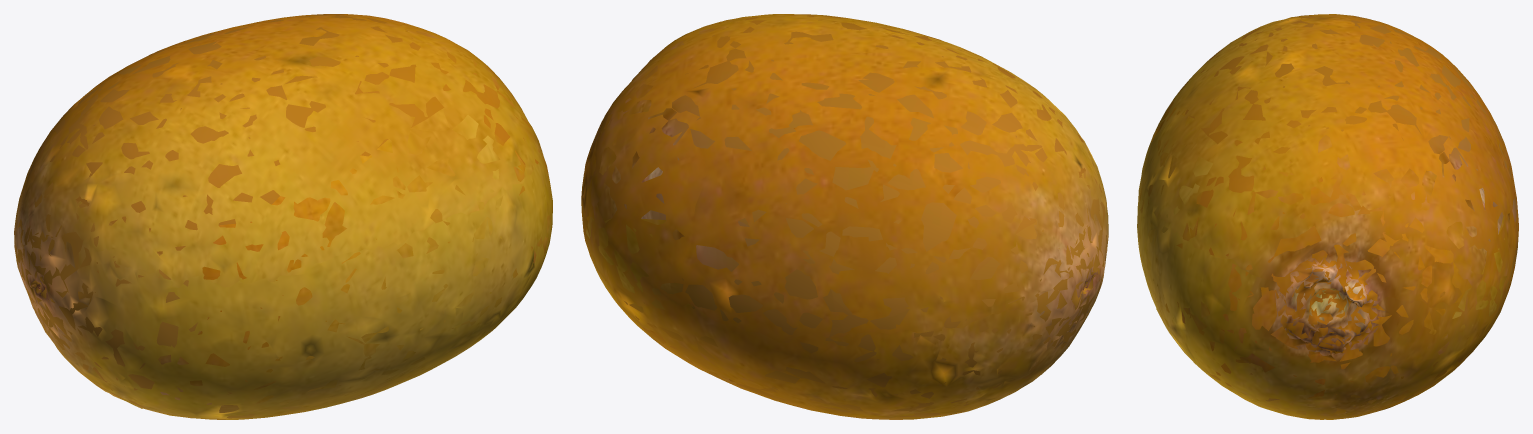
Rendered from kiwi.glb.
3 views of the same model, side by side, from view 1: azimuth 30°, elevation 25°; view 2: azimuth 150°, elevation 25°; view 3: azimuth 270°, elevation 25° (orthographic). The views are drawn at different scales.
Visible parts, largest first — view 1: kiwi; view 2: kiwi; view 3: kiwi.
Boxes of the visible parts, bbox=[...] form: kiwi: bbox=[14, 14, 552, 419]; kiwi: bbox=[581, 14, 1108, 419]; kiwi: bbox=[1137, 14, 1518, 419].
Bounding box in the file's own units: 0.0677 × 0.047 × 0.0505.
Materials: 1 (1 with a texture image).
